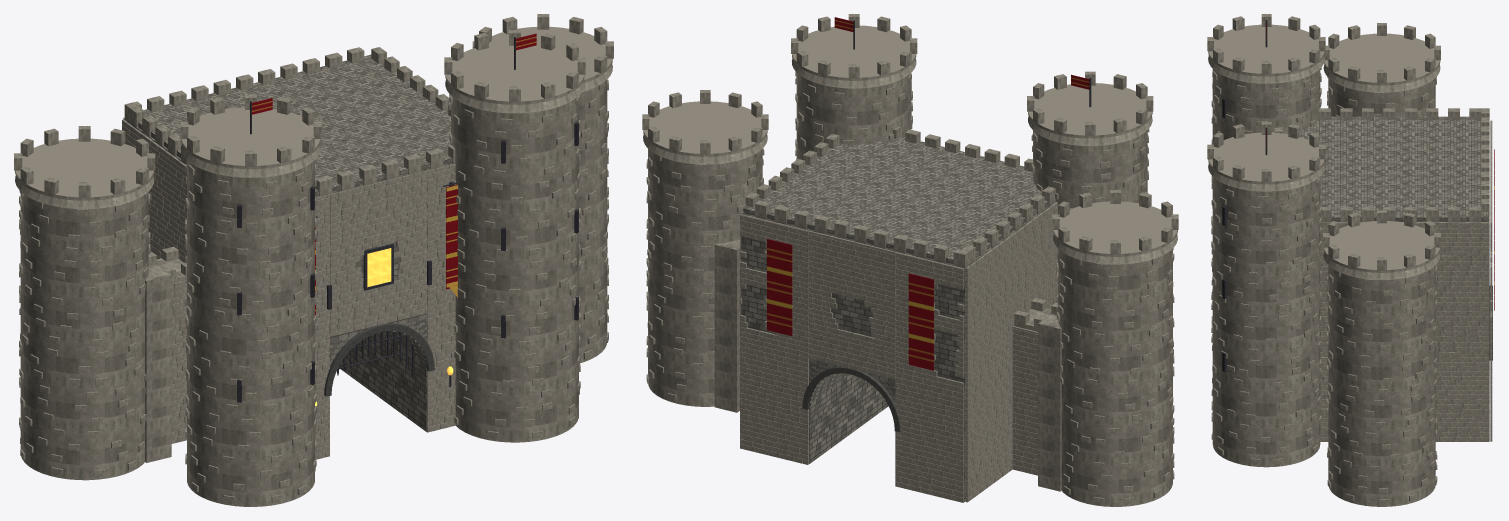
The model's file is bld_royal_citadel_keep.glb.
The picture shows the model from 3 angles, left to right: view 1: azimuth 30°, elevation 25°; view 2: azimuth 150°, elevation 25°; view 3: azimuth 270°, elevation 25°; orthographic projection. The views are drawn at different scales.
Parts seen in each view (by area): view 1: curtain_walls_towers, ashlar_relief, gatehouse_core, iron_portcullis, royal_banners, arch_voussoirs, lit_windows_brazier; view 2: curtain_walls_towers, ashlar_relief, gatehouse_core, royal_banners, arch_voussoirs; view 3: curtain_walls_towers, gatehouse_core, ashlar_relief, iron_portcullis.
Boxes of the visible parts, bbox=[...] form: curtain_walls_towers: bbox=[14, 14, 613, 506]; ashlar_relief: bbox=[122, 117, 455, 462]; gatehouse_core: bbox=[124, 54, 454, 431]; iron_portcullis: bbox=[237, 37, 578, 402]; royal_banners: bbox=[252, 33, 536, 315]; arch_voussoirs: bbox=[324, 323, 434, 396]; lit_windows_brazier: bbox=[315, 248, 453, 405]; curtain_walls_towers: bbox=[642, 14, 1178, 506]; ashlar_relief: bbox=[714, 202, 1061, 502]; gatehouse_core: bbox=[741, 136, 1055, 501]; royal_banners: bbox=[767, 17, 1089, 370]; arch_voussoirs: bbox=[802, 366, 900, 431]; curtain_walls_towers: bbox=[1207, 14, 1489, 506]; gatehouse_core: bbox=[1300, 116, 1489, 441]; ashlar_relief: bbox=[1320, 120, 1492, 441]; iron_portcullis: bbox=[1222, 19, 1267, 372].
Size of the model in its own units: 41.8 by 26 by 21.38.
7 materials, 7 textured.
